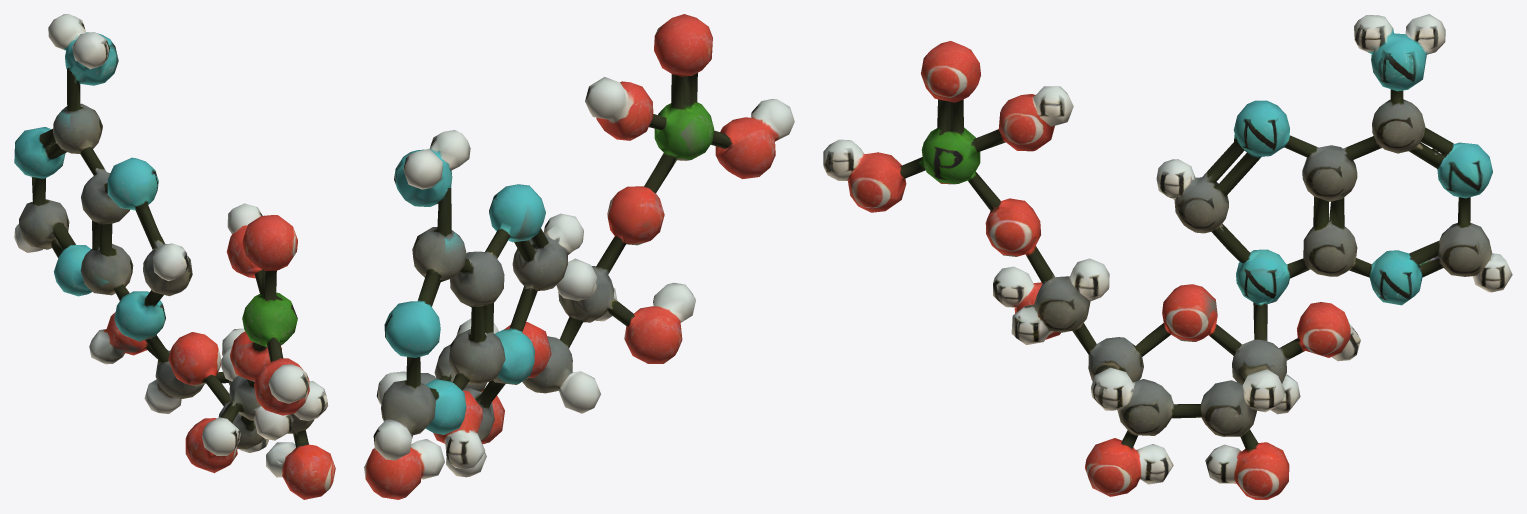
File: nucleotide.glb
The picture shows the model from 3 angles, left to right: view 1: azimuth 30°, elevation 25°; view 2: azimuth 150°, elevation 25°; view 3: azimuth 270°, elevation 25°; orthographic projection. The views are drawn at different scales.
Visible parts, largest first — view 1: tripo_node_7932b1bb-0aea-48cf-b936-ec6336e6d615; view 2: tripo_node_7932b1bb-0aea-48cf-b936-ec6336e6d615; view 3: tripo_node_7932b1bb-0aea-48cf-b936-ec6336e6d615.
Boxes of the visible parts, box(x1,y1,x2,y2) form: tripo_node_7932b1bb-0aea-48cf-b936-ec6336e6d615: box(14, 14, 335, 499); tripo_node_7932b1bb-0aea-48cf-b936-ec6336e6d615: box(364, 14, 794, 499); tripo_node_7932b1bb-0aea-48cf-b936-ec6336e6d615: box(823, 14, 1512, 499).
Size of the model in its own units: 0.3436 by 0.6838 by 1.
Materials: 1 (1 with a texture image).
